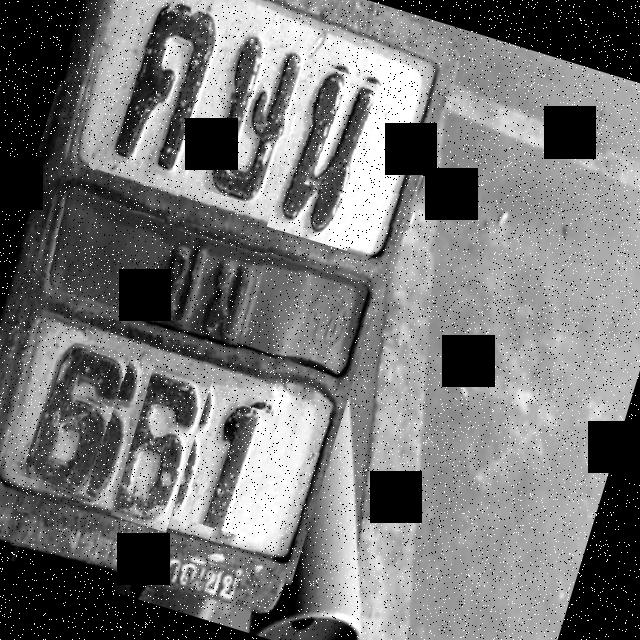letters: (87, 0, 239, 196), (266, 62, 407, 254), (189, 23, 316, 208), (108, 358, 214, 532), (21, 338, 130, 496), (188, 398, 280, 536)
license-plate: (0, 0, 452, 587)
province: (132, 215, 268, 358)
